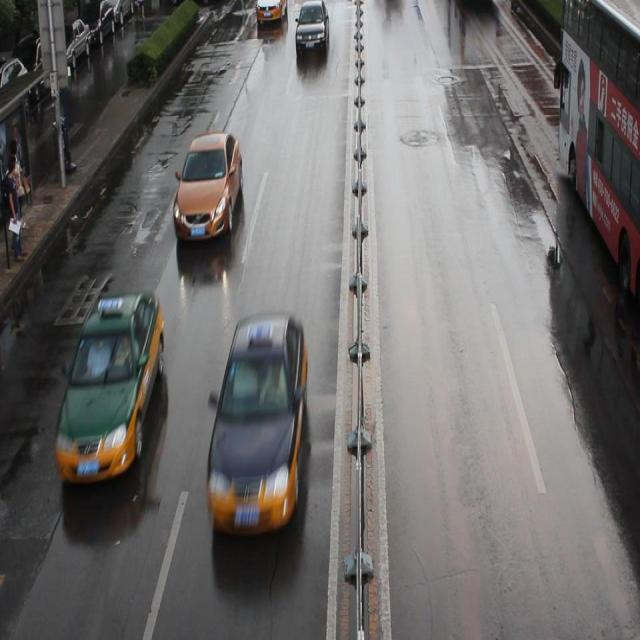car: (204, 309, 308, 537), (56, 291, 166, 484), (172, 129, 242, 242), (294, 1, 328, 54), (254, 1, 288, 24)
van: (556, 1, 640, 306), (452, 1, 493, 10)
